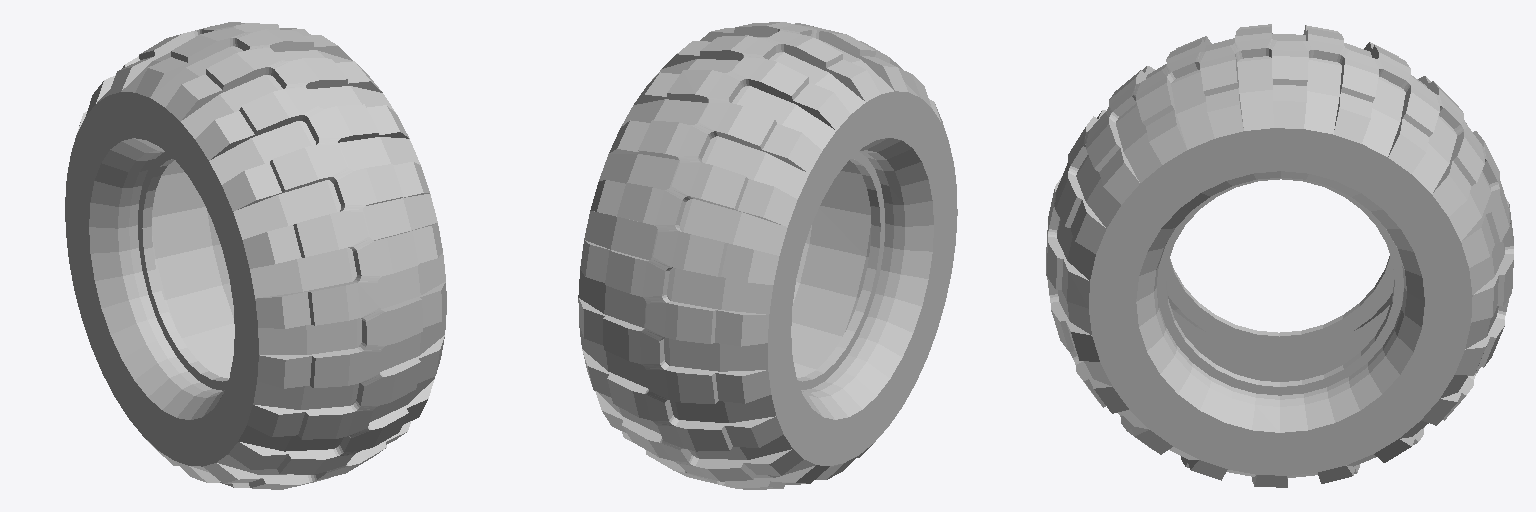
Rendered from balloon-tyre.obj.
3 renders of one model, left to right at view 1: azimuth 30°, elevation 25°; view 2: azimuth 150°, elevation 25°; view 3: azimuth 270°, elevation 25°, orthographic.
Visible parts, largest first — view 1: Part.531_45982.json; view 2: Part.531_45982.json; view 3: Part.531_45982.json.
Boxes of the visible parts, <box> form: Part.531_45982.json: <box>65,22,446,489</box>; Part.531_45982.json: <box>578,22,957,489</box>; Part.531_45982.json: <box>1046,24,1513,487</box>.
Size of the model in its own units: 0.0384 by 0.0816 by 0.0816.